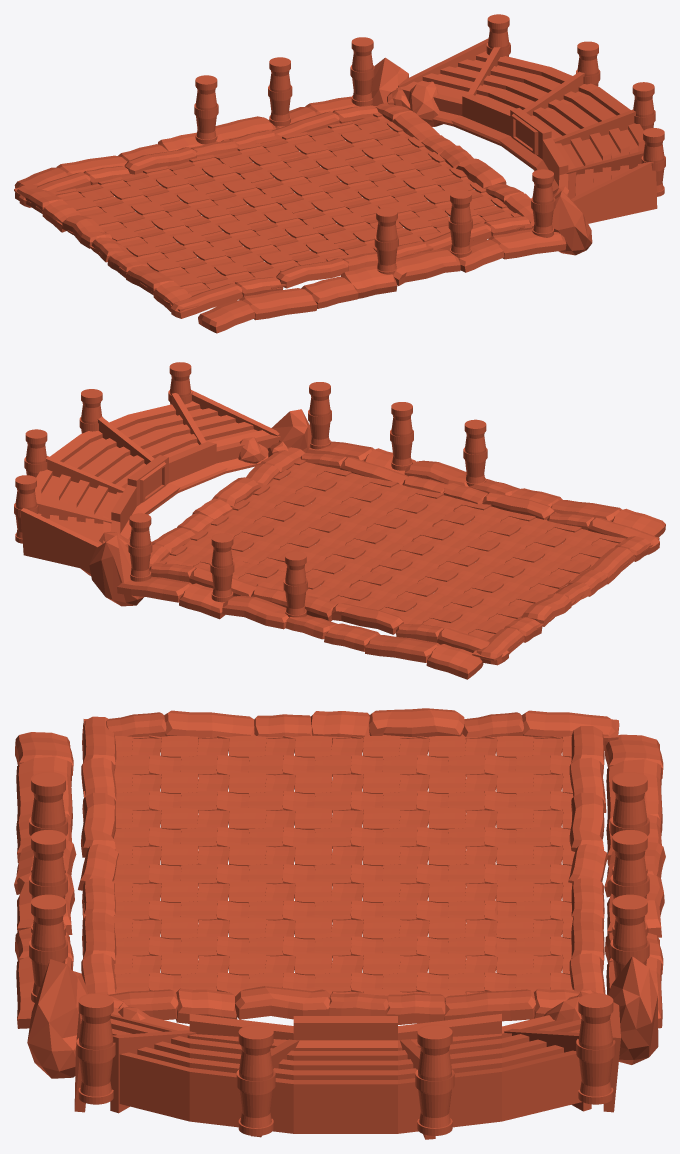
File: plataforma2.fbx
3 views of the same model, one above another, from view 1: azimuth 30°, elevation 25°; view 2: azimuth 150°, elevation 25°; view 3: azimuth 270°, elevation 25° (orthographic). The views are drawn at different scales.
Visible parts, largest first — view 1: Cube.307; view 2: Cube.307; view 3: Cube.307.
Part boxes in pixels (box(x1,y1,x2,y2)): Cube.307: box(14, 14, 665, 333); Cube.307: box(14, 362, 665, 679); Cube.307: box(14, 708, 665, 1139).
Size of the model in its own units: 199 by 32.89 by 131.
